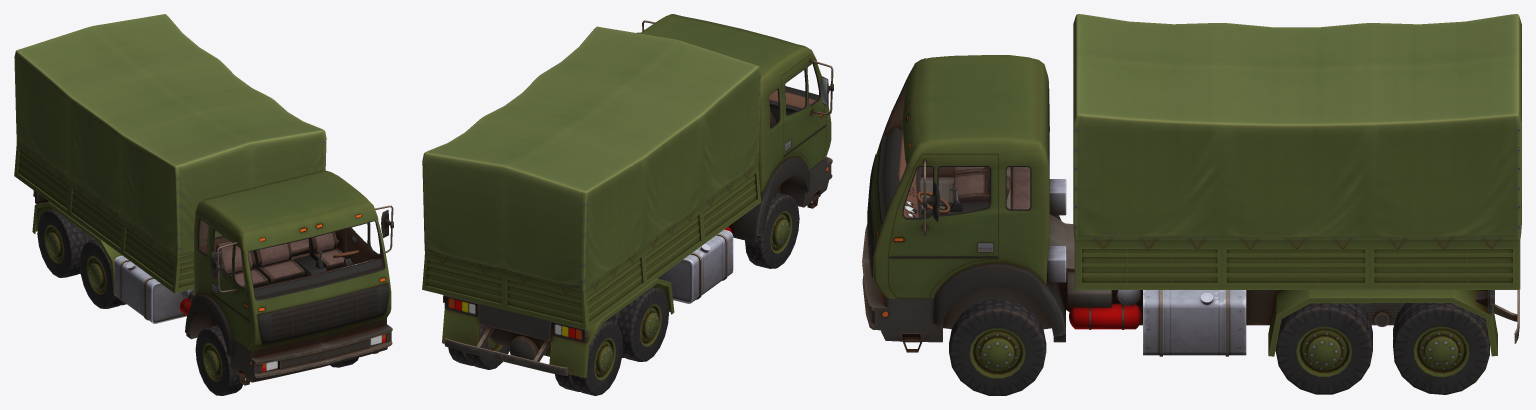
File: MilitaryTruck01_2.FBX
3 renders of one model, left to right at view 1: azimuth 30°, elevation 25°; view 2: azimuth 150°, elevation 25°; view 3: azimuth 270°, elevation 25°, orthographic. The views are drawn at different scales.
Visible parts, largest first — view 1: MilitaryTruck01_2; view 2: MilitaryTruck01_2; view 3: MilitaryTruck01_2.
Boxes of the visible parts, left/top/right/bottom form: MilitaryTruck01_2: left=14, top=14, right=393, bottom=395; MilitaryTruck01_2: left=422, top=14, right=833, bottom=395; MilitaryTruck01_2: left=862, top=14, right=1521, bottom=395.
Size of what is drawn, in the model's own units: 3.38 by 3.9 by 7.88.
